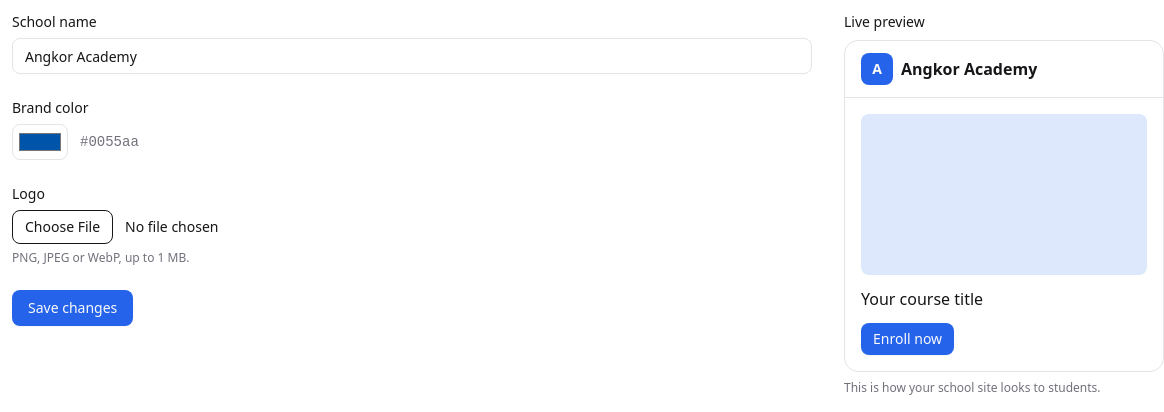
Test: SettingsForm › submits the edited fields without a logo key when no logo was chosen
The width and height of the screenshot is (1164, 412).
Step 1. Replace the text in the field labelled "School name" with "Mekong School" → (412, 56), box [12,38,812,74]
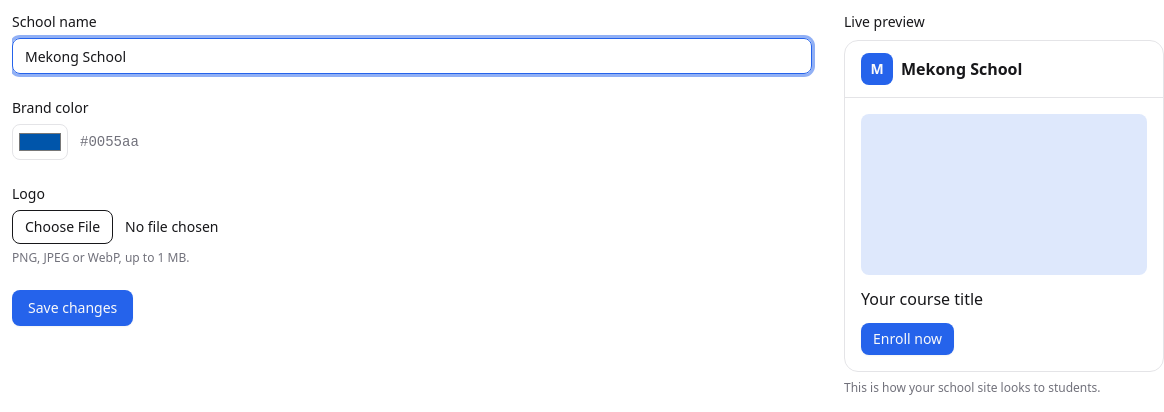
Step 2. Click the button "Save changes" → (73, 308), box [12,290,133,326]
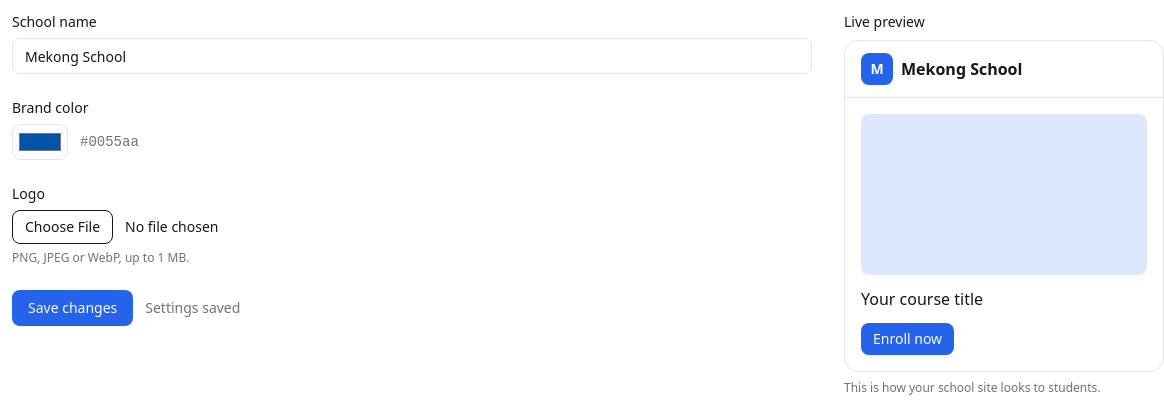
Expected: the text "#0055aa" is shown, [80,132,139,152]
Now the text "Mekong School" is shown, box [901,57,1022,81]
Now the text "Settings saved" is shown, box [145,298,240,318]
